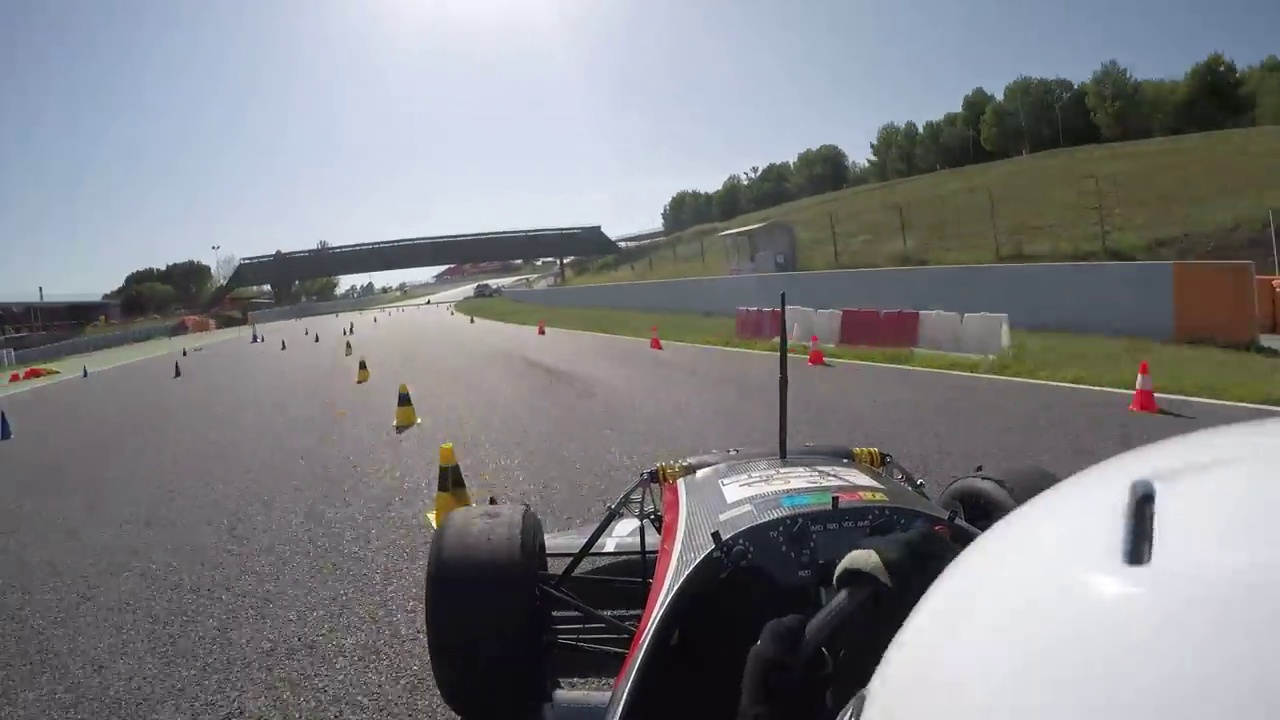Cone: (425, 441, 480, 523), (1126, 359, 1163, 417), (394, 377, 423, 430), (804, 332, 827, 364)
